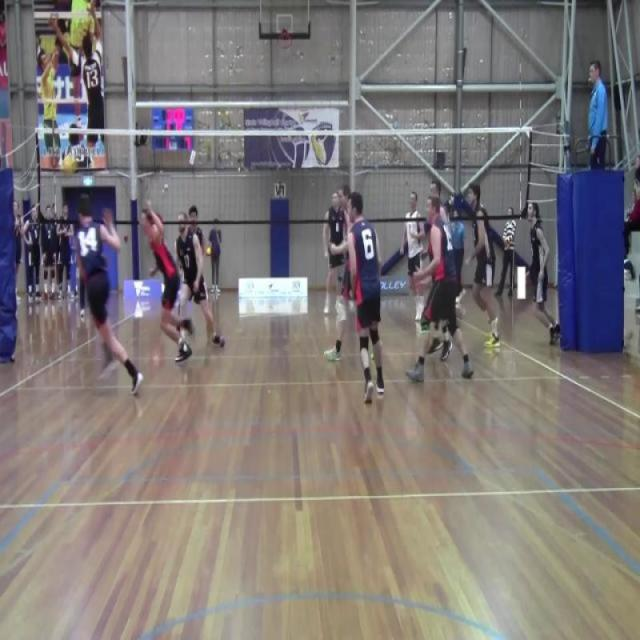volleyball: (60, 152, 79, 180), (205, 246, 212, 258)
